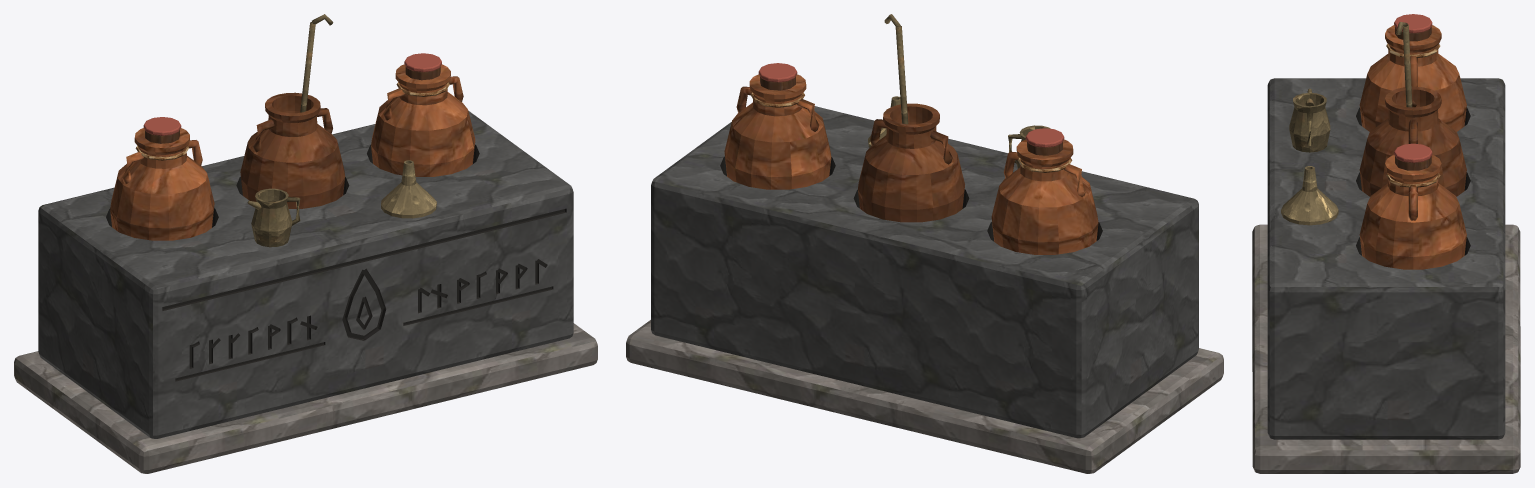
Rendered from rs_oil_jar_stand.glb.
The picture shows the model from 3 angles, left to right: view 1: azimuth 30°, elevation 25°; view 2: azimuth 150°, elevation 25°; view 3: azimuth 270°, elevation 25°; orthographic projection. The views are drawn at different scales.
Visible parts, largest first — view 1: model; view 2: model; view 3: model.
Part boxes in pixels (x1,y1,x2,y2): model: [14, 14, 597, 473]; model: [626, 14, 1223, 473]; model: [1252, 14, 1520, 473].
Size of the model in its own units: 1.41 by 1.02 by 0.7007.
Materials: 12 (9 with a texture image).
